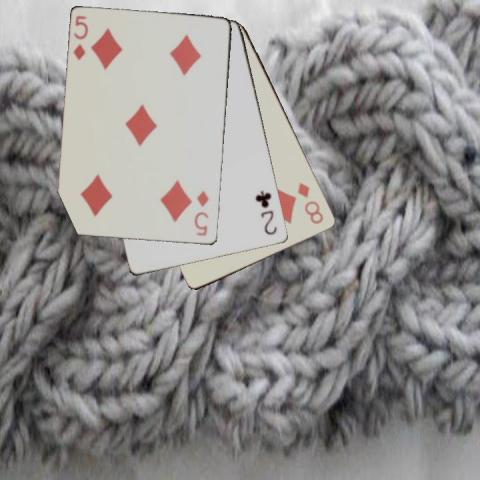2c: (252, 187, 278, 237)
5d: (191, 188, 210, 238), (71, 13, 90, 62)
8d: (295, 179, 325, 226)
